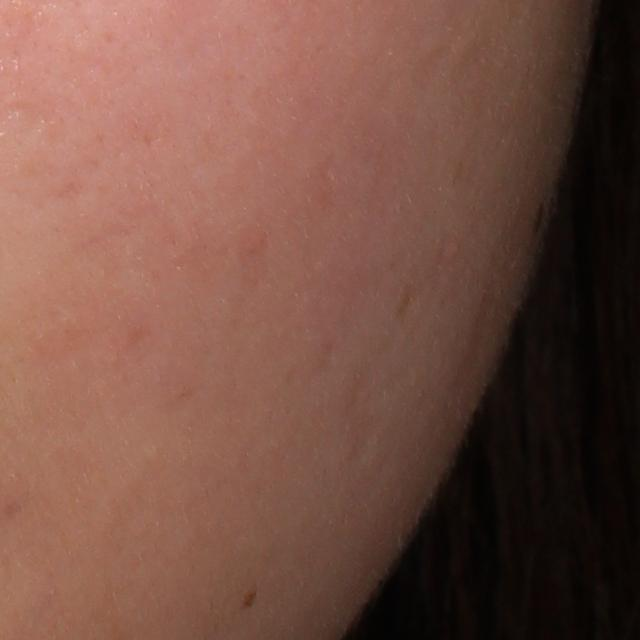nevus: (242, 586, 258, 610)
